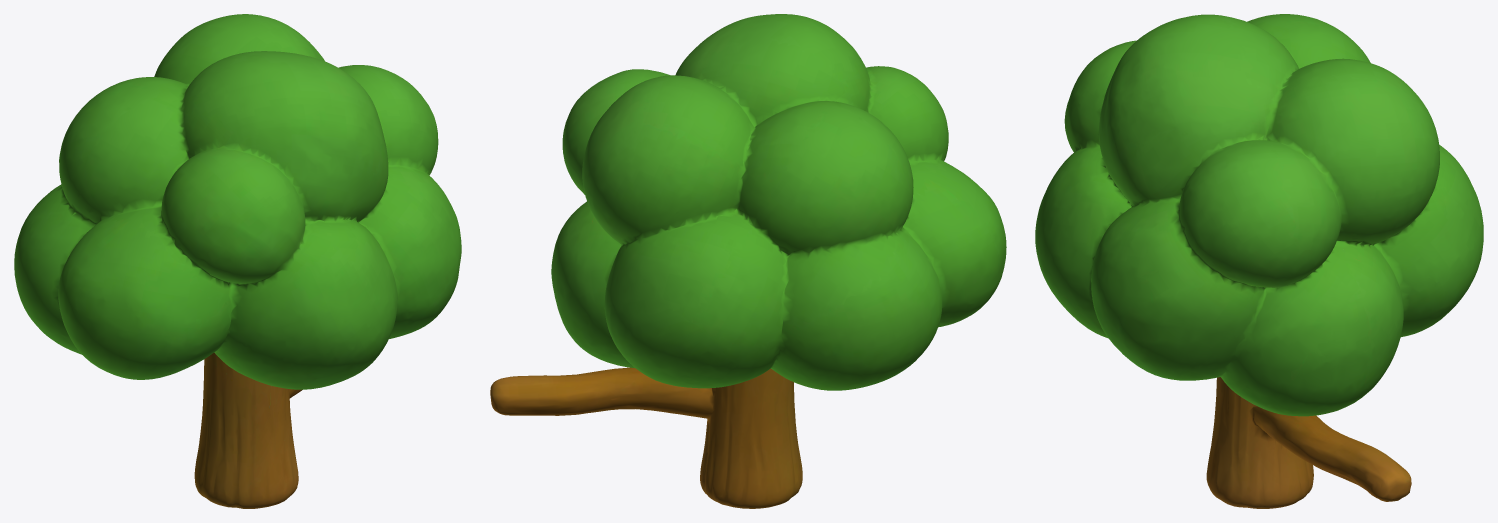
File: 35-arvore-galho.glb
The picture shows the model from 3 angles, left to right: view 1: azimuth 30°, elevation 25°; view 2: azimuth 150°, elevation 25°; view 3: azimuth 270°, elevation 25°; orthographic projection. The views are drawn at different scales.
Visible parts, largest first — view 1: tripo_node_8f86c415-e6c1-4f53-9587-0d990ff078cc; view 2: tripo_node_8f86c415-e6c1-4f53-9587-0d990ff078cc; view 3: tripo_node_8f86c415-e6c1-4f53-9587-0d990ff078cc.
Part boxes in pixels (box(x1,y1,x2,y2)): tripo_node_8f86c415-e6c1-4f53-9587-0d990ff078cc: box(14, 14, 461, 508); tripo_node_8f86c415-e6c1-4f53-9587-0d990ff078cc: box(490, 14, 1006, 508); tripo_node_8f86c415-e6c1-4f53-9587-0d990ff078cc: box(1035, 14, 1483, 508).
Size of the model in its own units: 0.9512 by 1 by 0.8739.
Materials: 1 (1 with a texture image).
